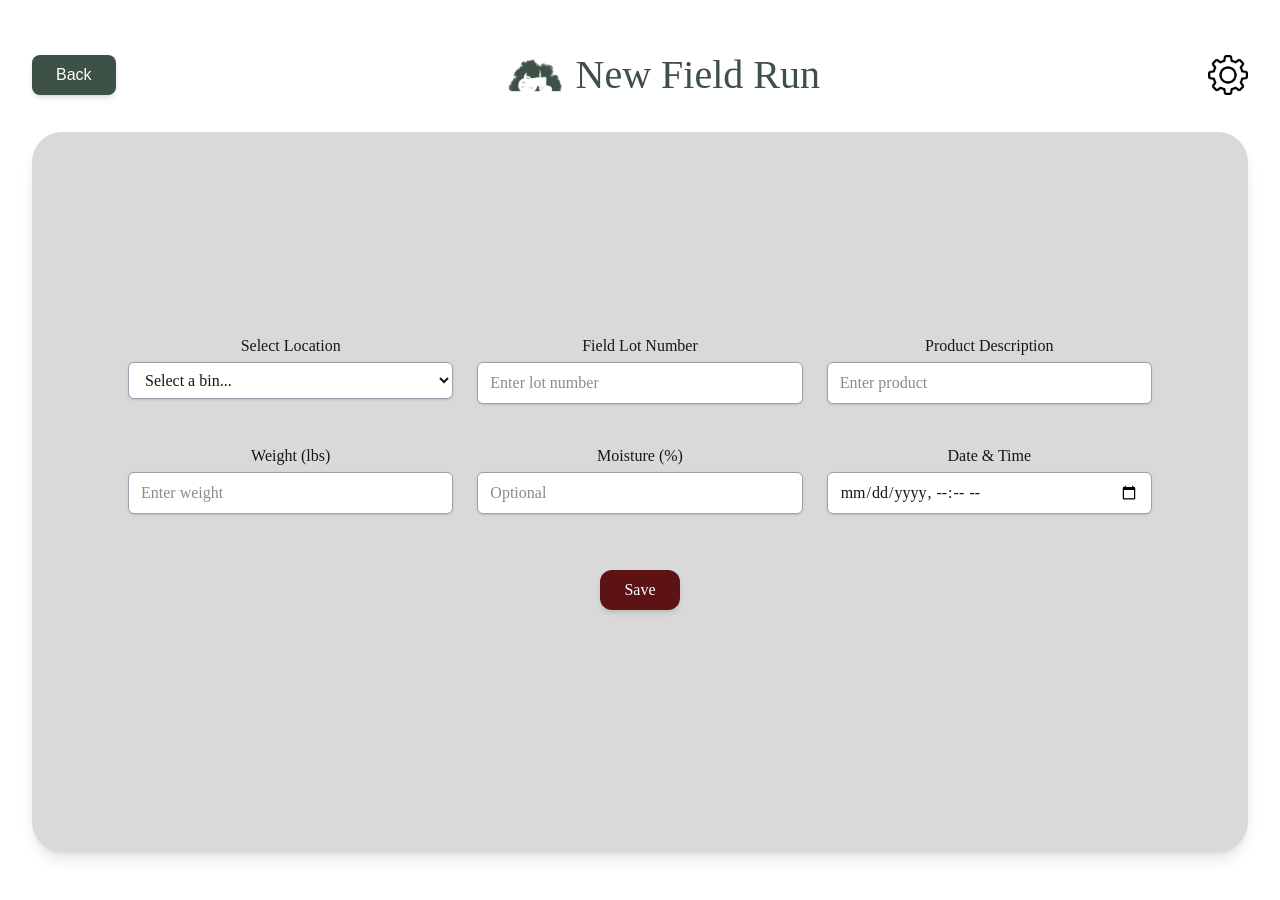
NewFieldRun page › allows Moisture to be empty and saves successfully
The image size is (1280, 900).
Select "HQ-1" in the dropdown labelled "Select Location": (291,380) [128,362,453,399]
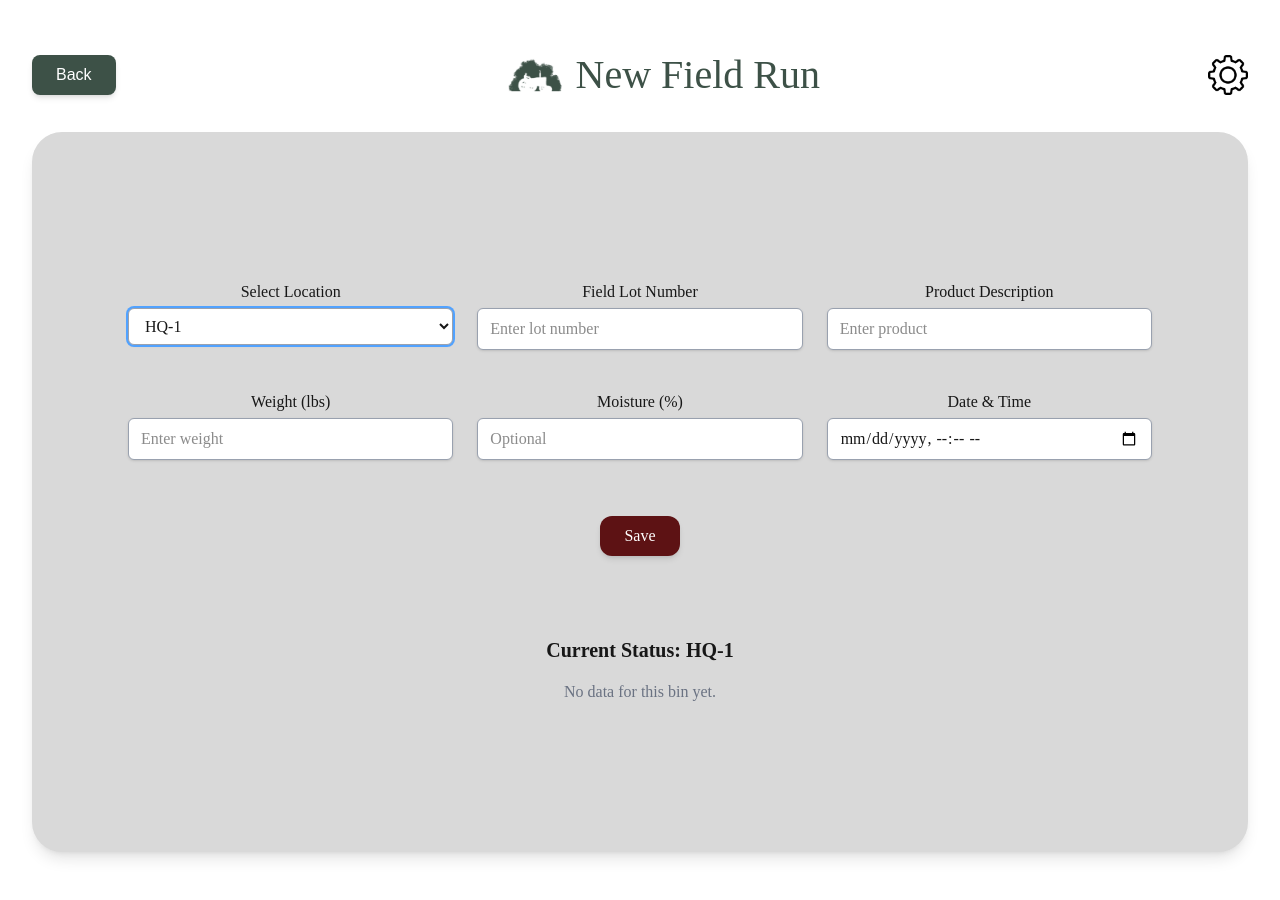
In the field labelled "Field Lot Number": (640,329) [477,308,803,350], type "FL-123"
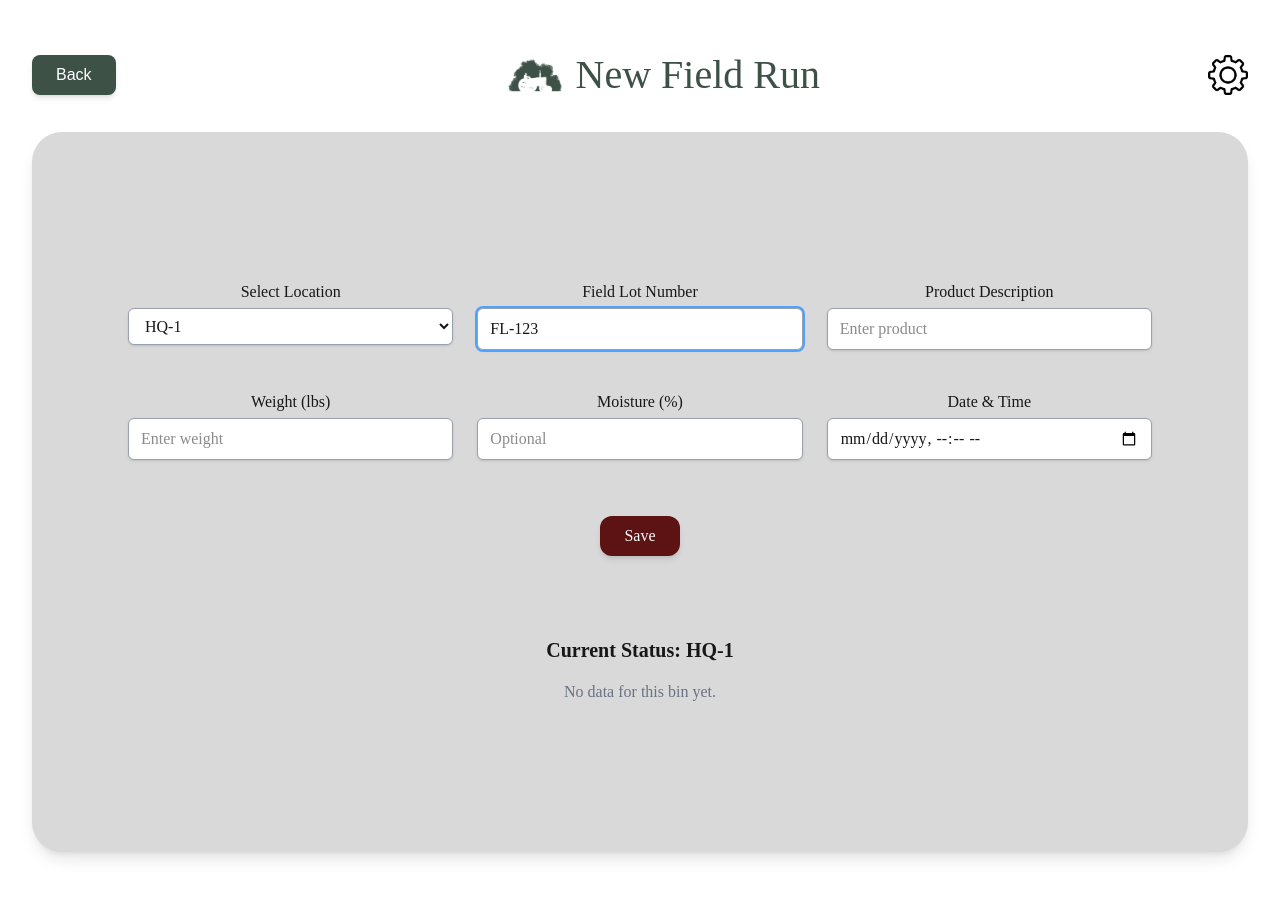
In the field labelled "Product Description": (989,329) [827,308,1152,350], type "WC"
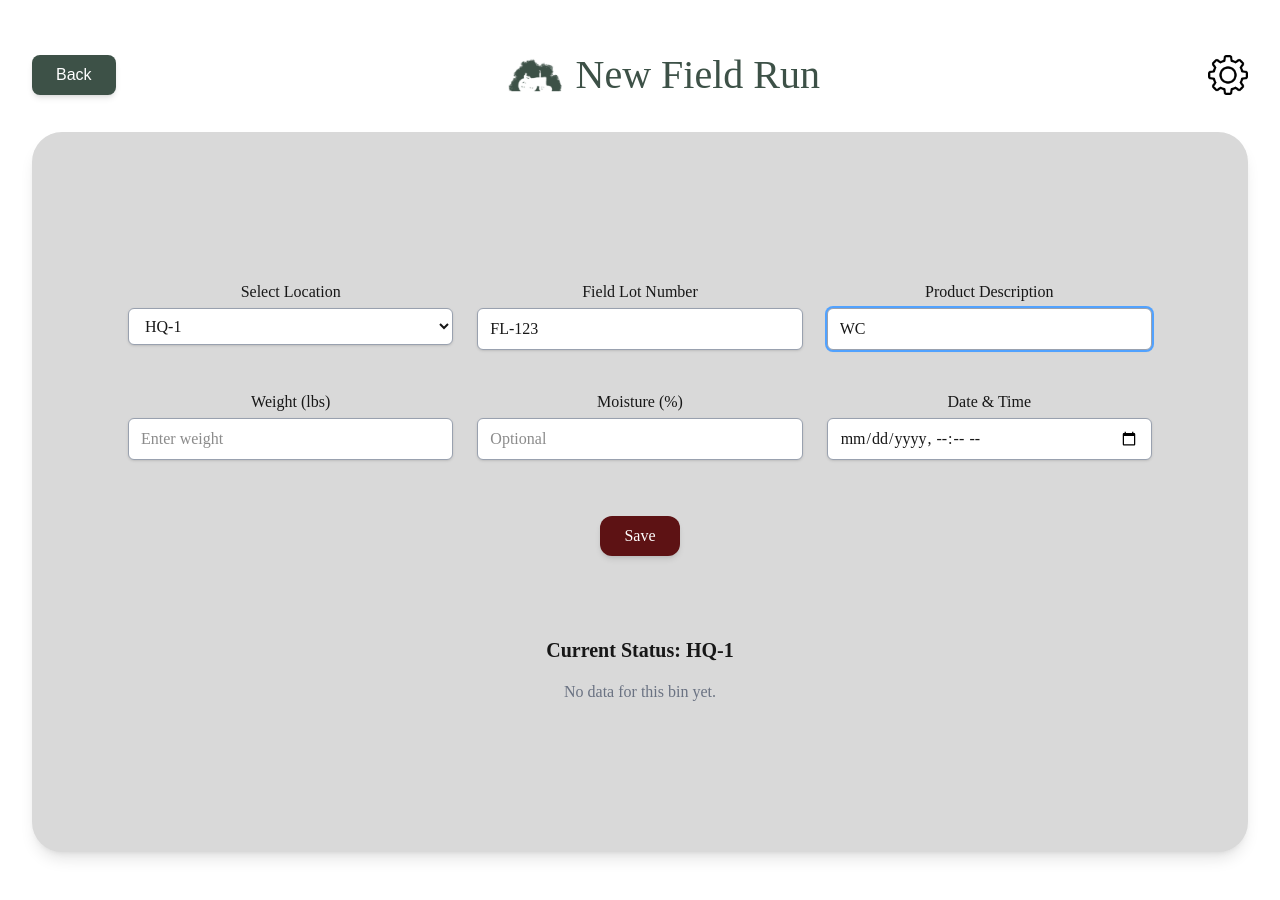
In the number field labelled "Weight (lbs)": (291,439) [128,418,453,460], type "500"
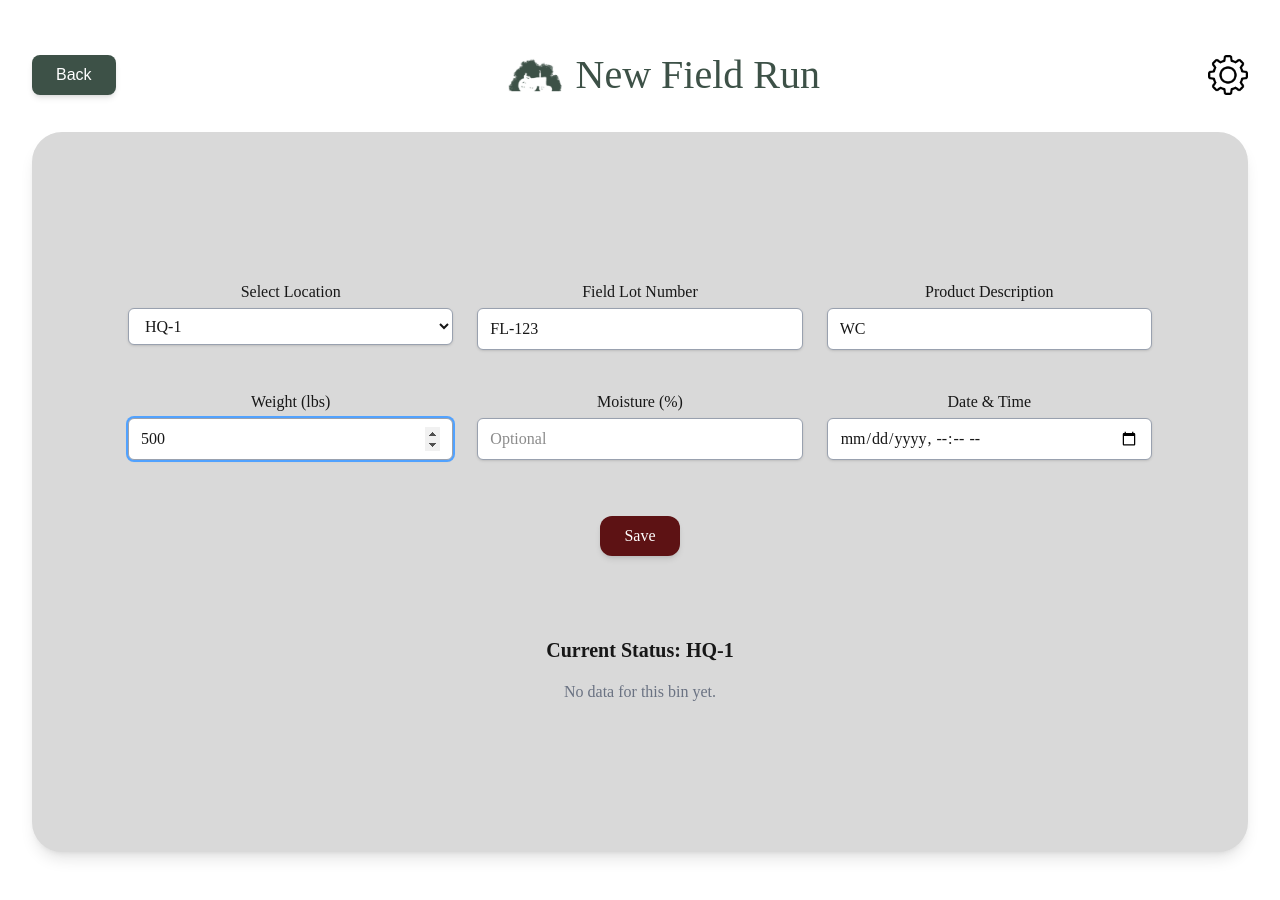
Click the button "Save": (640,536) [600,516,680,556]
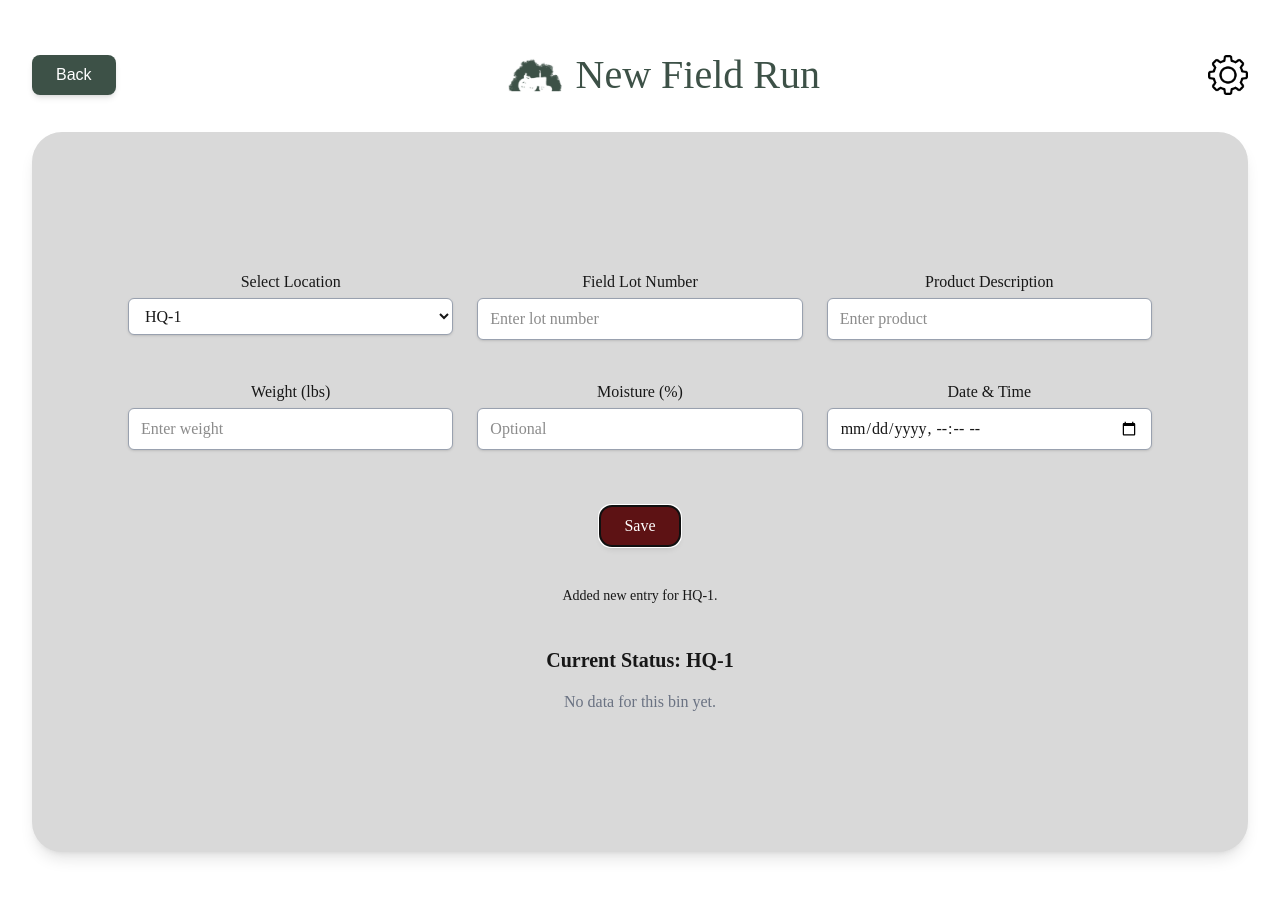
Check: the text "Added new entry for HQ-1." is shown, box [562,586,718,606]
